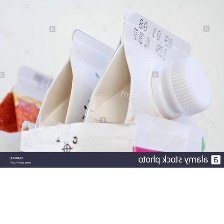carton: (82, 8, 215, 160), (32, 24, 116, 154), (0, 63, 61, 166)
